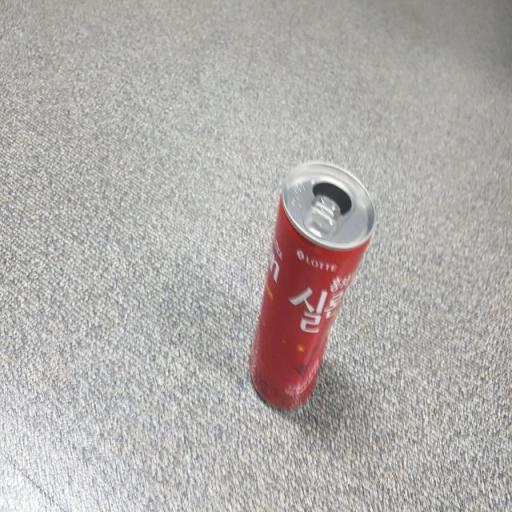metal: (232, 106, 384, 439)
